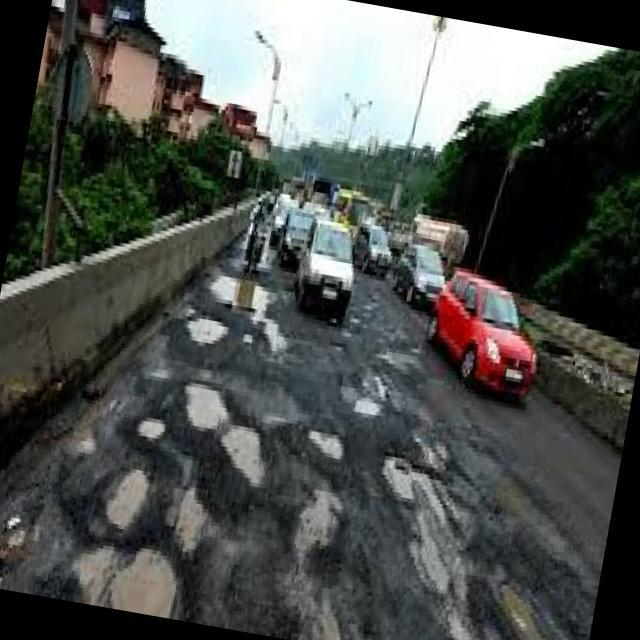Pothole: (78, 520, 179, 619), (185, 385, 261, 486), (104, 471, 153, 533), (172, 491, 204, 552)
